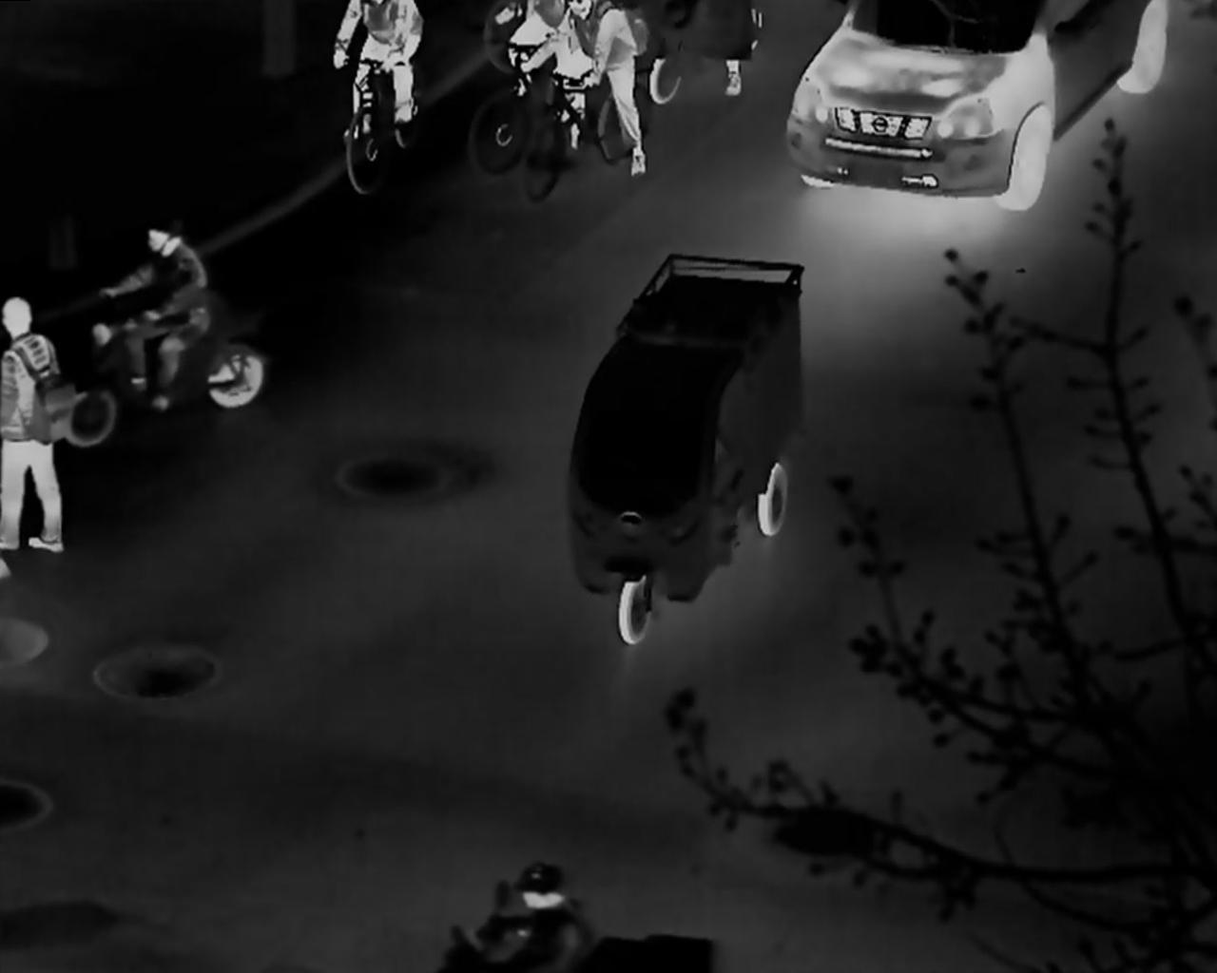person: (93, 222, 211, 413), (2, 295, 74, 554)
